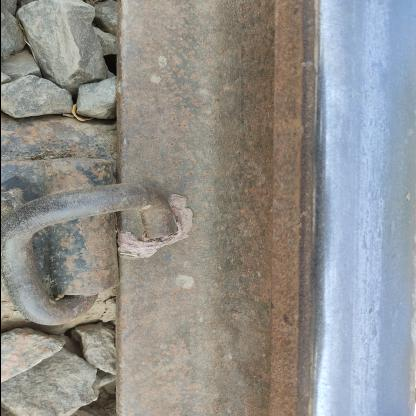Non Defective 1: (0, 121, 224, 343)
